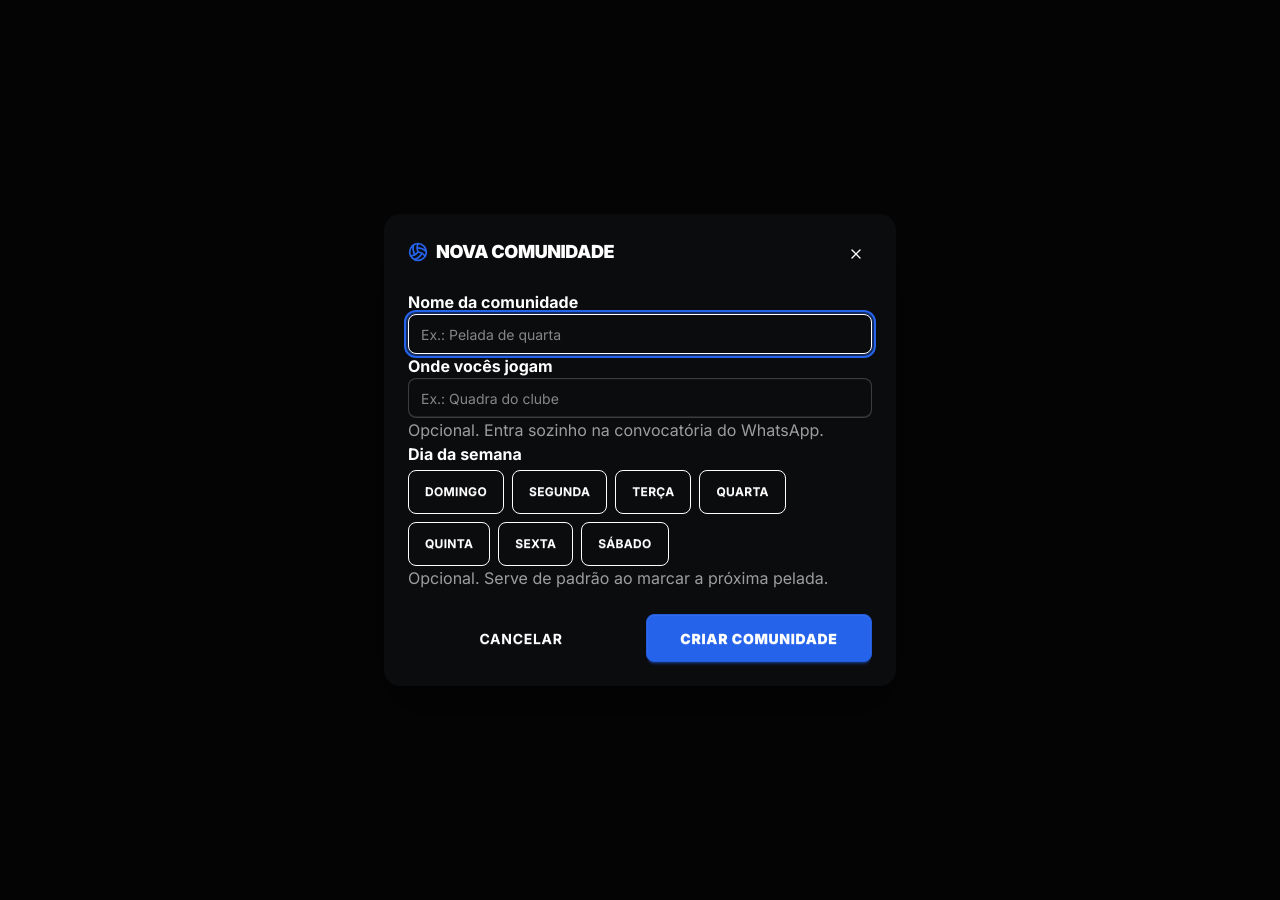
Test case: CreateCommunityModal › recusa nome vazio com erro anunciado, sem criar
Click the button "Criar comunidade".
click(759, 638)  # box [646,614,872,662]
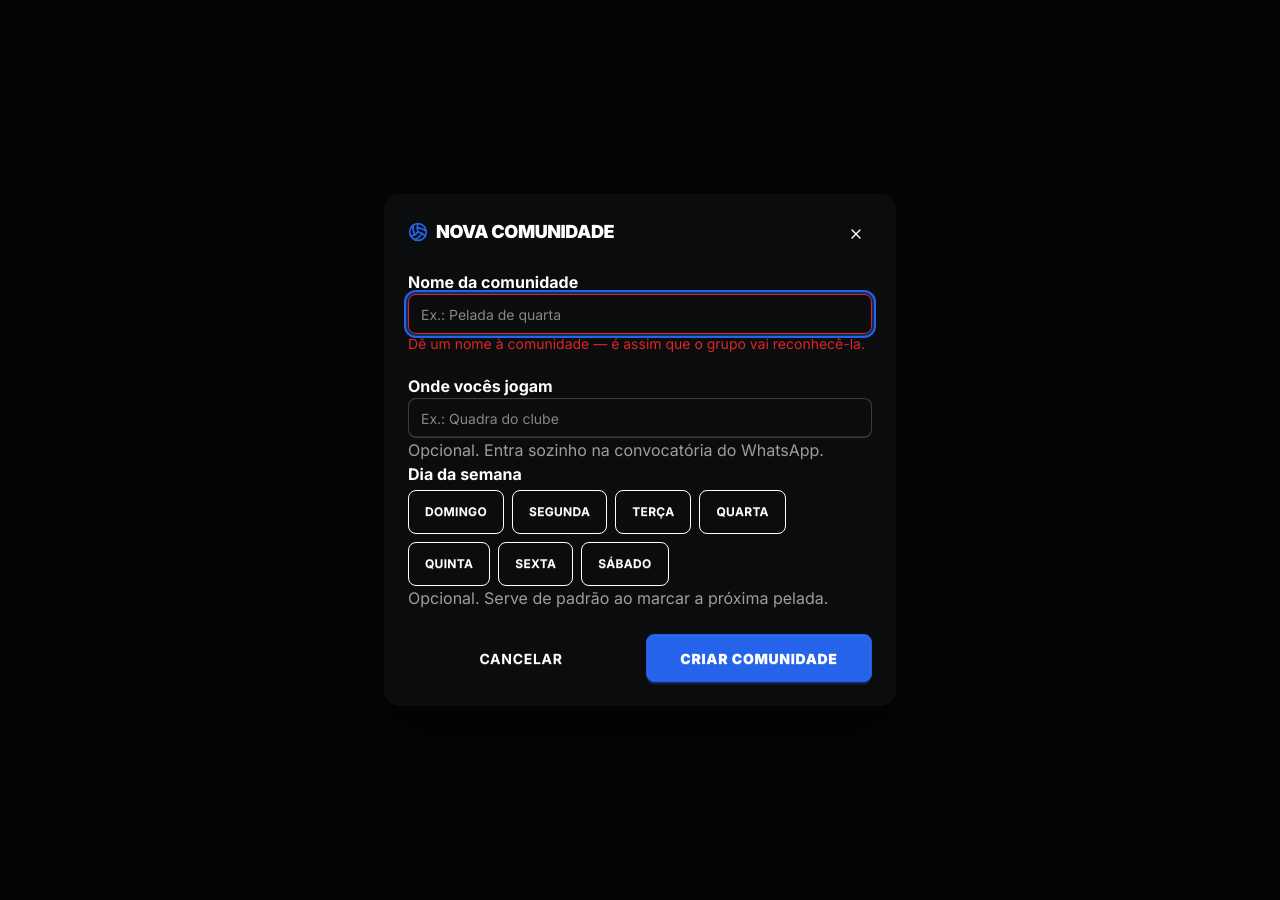
expect the message shows "nome": met, box [408,335,865,352]
